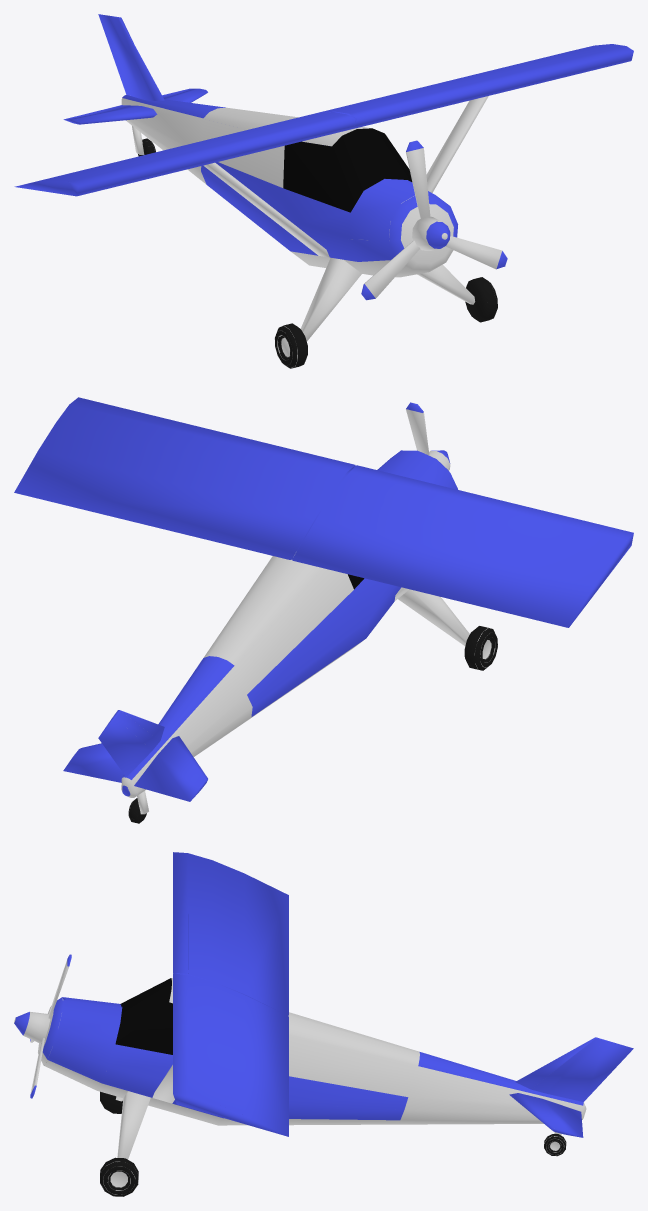
File: aeroplaneGL.gltf
3 renders of one model, top to bottom at view 1: azimuth 30°, elevation 25°; view 2: azimuth 150°, elevation 25°; view 3: azimuth 270°, elevation 25°, orthographic. The views are drawn at different scales.
Visible parts, largest first — view 1: PlaneBody; view 2: PlaneBody; view 3: PlaneBody.
Boxes of the visible parts, box(x1,y1,x2,y2) form: PlaneBody: box(14, 14, 633, 368); PlaneBody: box(14, 397, 633, 823); PlaneBody: box(14, 852, 633, 1196).
Bounding box in the file's own units: 4.95 × 1.88 × 5.34.
1 material, 1 textured.
